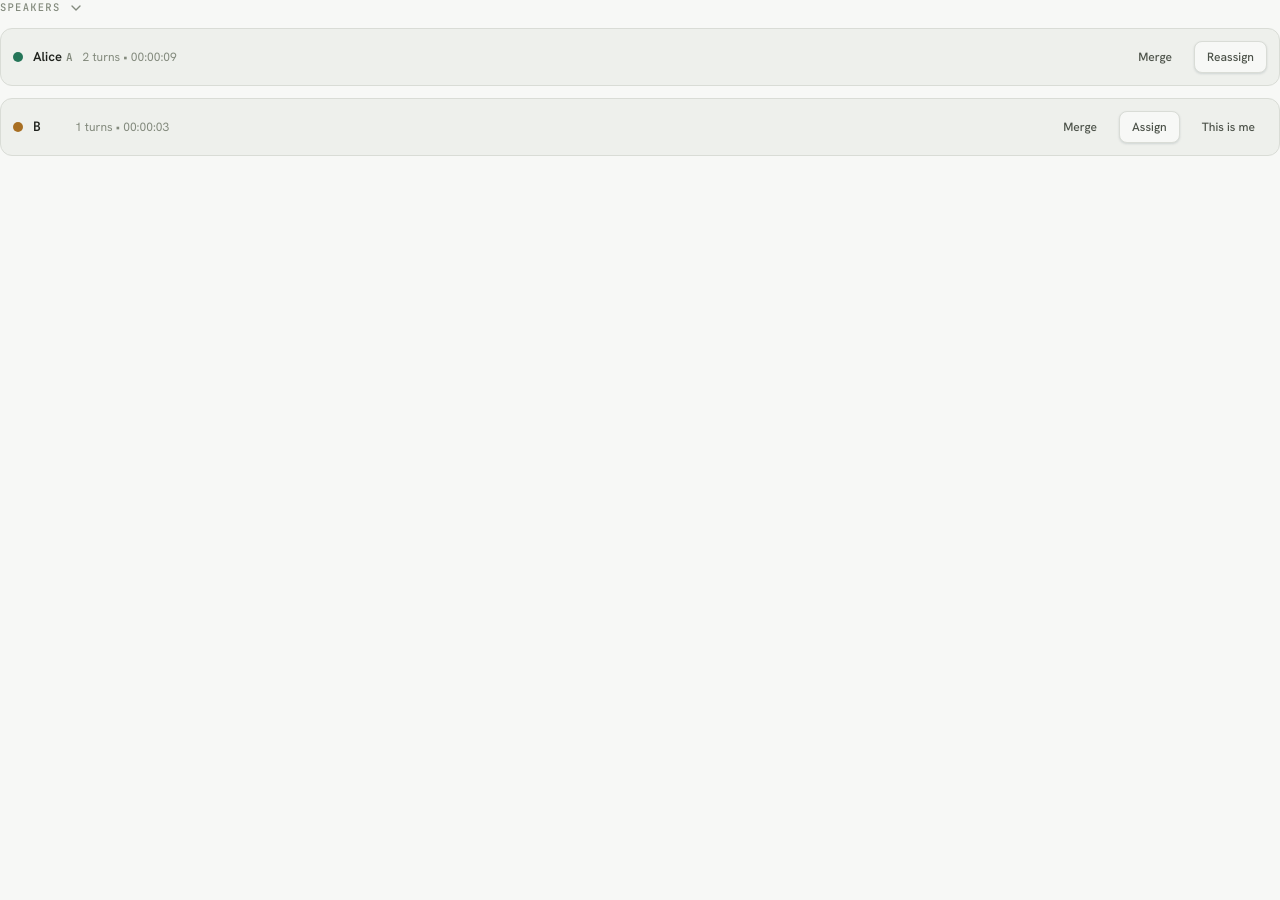
it: SpeakersPanel (AC2/AC3) › Phase 2A capture + un-bank › renders assigned speaker contact names and exposes inline un-bank (AC2)
The width and height of the screenshot is (1280, 900).
Check: the text "Alice" is shown, box [33,47,62,67]
Click the button with aria-label "assign contact to a": (1231, 57) [1194,41,1267,73]
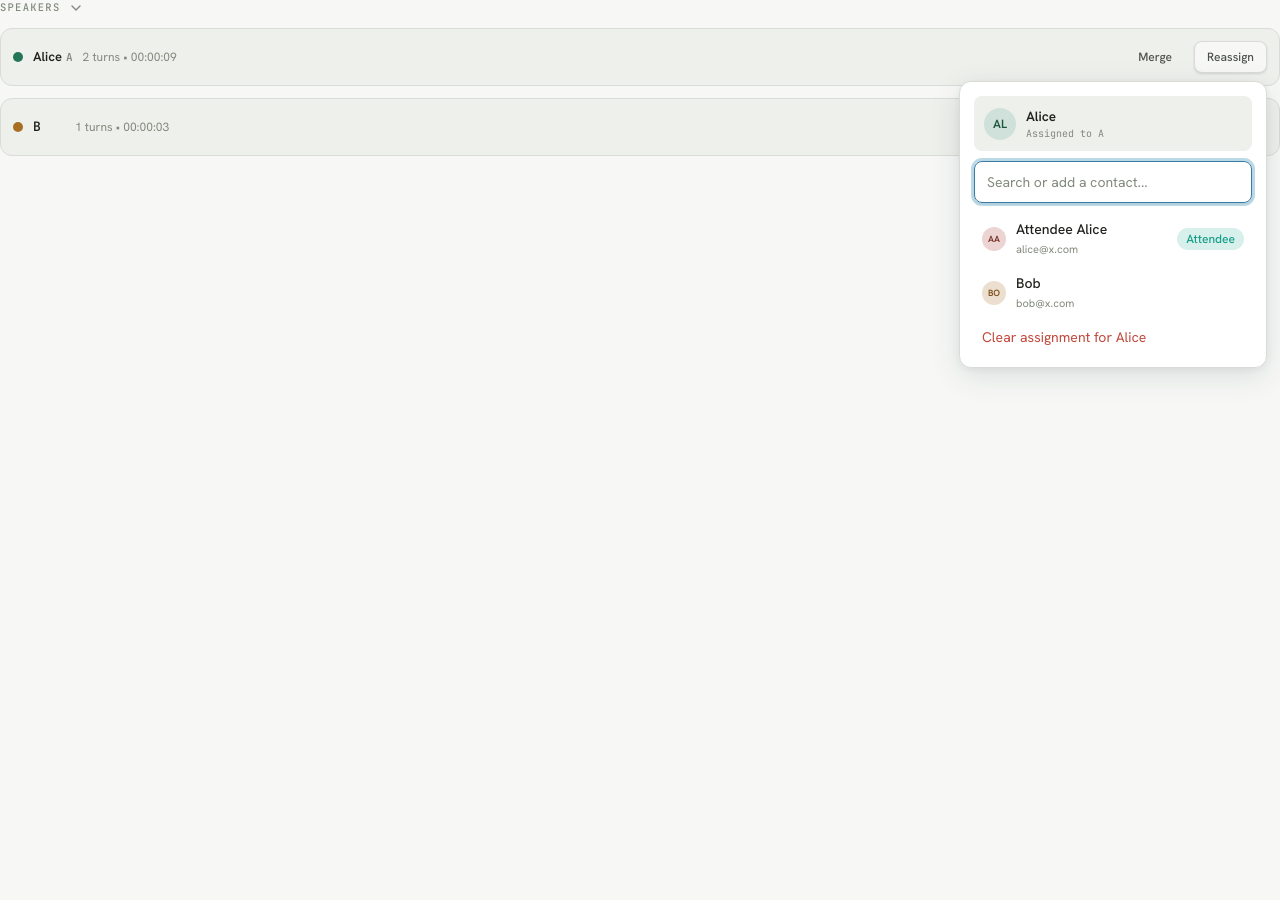
Check: the button "Clear assignment for Alice" is shown, box [974,321,1252,353]
